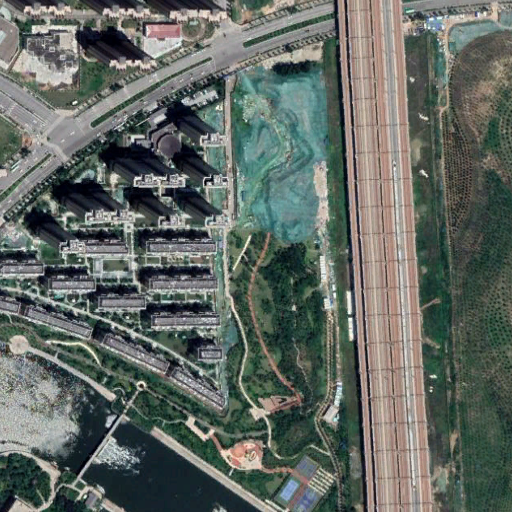cw: (229, 65, 337, 245), (434, 7, 512, 57)
